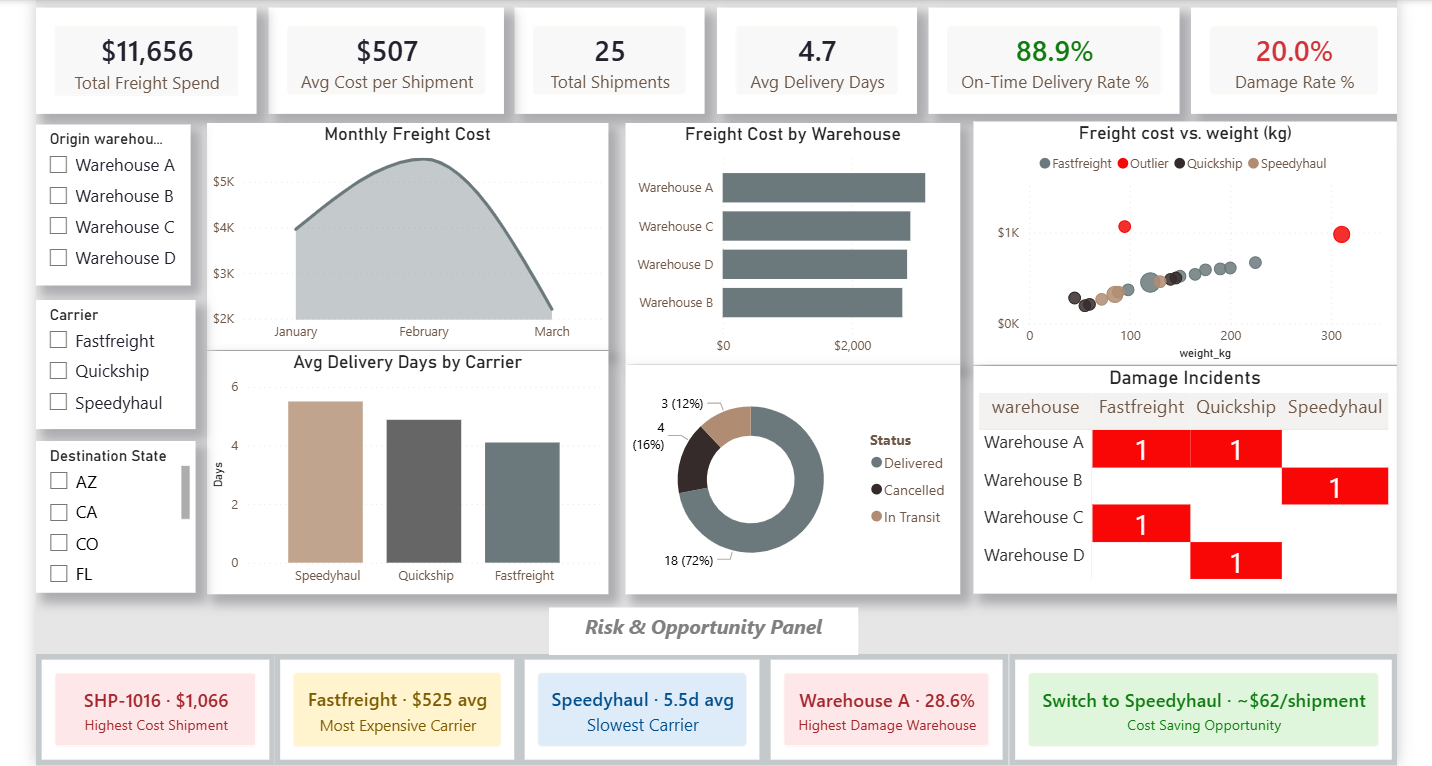

The dashboard page shown, as its layout file describes it:
{"tool":"powerbi","page":{"name":"Page 1","canvas":[1280,720],"ordinal":0},"visuals":[{"type":"cardVisual","fields":{"Data":["Table1.Total Shipments"]},"box":[449.7,6.6,178.7,99.9],"z":0},{"type":"cardVisual","fields":{"Data":["Table1.Avg Cost per Shipment"]},"box":[218,6.6,221.1,99.9],"z":1000},{"type":"cardVisual","fields":{"Data":["Table1.Avg Delivery Days"]},"box":[640.5,6.6,187.8,99.9],"z":2000},{"type":"cardVisual","fields":{"Data":["Table1.On-Time Delivery Rate %"]},"box":[838.8,6.6,236.2,99.9],"z":3000},{"type":"cardVisual","fields":{"Data":["Table1.Damage Rate %"]},"box":[1085.7,6.6,193.8,99.9],"z":4000},{"type":"cardVisual","fields":{"Data":["Table1.Total Freight Spend"]},"box":[0,7,207.3,100.1],"z":5000},{"type":"areaChart","title":"Monthly Freight Cost","fields":{"Category":["Table1.ship_date.Variation.Date Hierarchy.Month"],"Y":["Table1.Monthly Freight Cost"]},"box":[161.3,115.8,377,213.5],"z":6000},{"type":"clusteredBarChart","title":"Freight Cost by Warehouse ","fields":{"Y":["Table1.Freight Cost by Warehouse"],"Category":["Table1.origin_warehouse"]},"box":[553.7,115.1,314.7,226.9],"z":7000},{"type":"clusteredColumnChart","title":"Avg Delivery Days by Carrier","fields":{"Y":["Table1.Avg Delivery Days by Carrier"],"Category":["Table1.carrier"]},"box":[161.3,329.3,377,228.6],"z":8000},{"type":"scatterChart","title":"Freight cost vs. weight (kg)","fields":{"X":["Table1.weight_kg"],"Y":["Table1.Avg Cost per Shipment"],"Size":["CountNonNull(Table1.shipment_id)"],"Series":["Table1.Outlier Label"]},"box":[881.2,113.5,397.8,228.5],"z":9000},{"type":"donutChart","fields":{"Category":["Table1.shipment_status"],"Y":["Count(Table1.shipment_id)"]},"box":[553.7,342,314.7,215.7],"z":10000},{"type":"pivotTable","title":"Damage Incidents","fields":{"Rows":["Table1.origin_warehouse"],"Columns":["Table1.carrier"],"Values":["Table1.Damage Count"]},"box":[881.2,343.6,397.8,214.1],"z":11000},{"type":"cardVisual","fields":{"Data":["Table1.Risk - Highest Cost Shipment"]},"box":[0,614.8,224.1,104.5],"z":12000},{"type":"cardVisual","fields":{"Data":["Table1.Risk - Most Expensive Carrier"]},"box":[224.1,614.8,230.2,104.5],"z":13000},{"type":"cardVisual","fields":{"Data":["Table1.Risk - Slowest Carrier"]},"box":[454.3,614.8,231.7,104.5],"z":14000},{"type":"cardVisual","fields":{"Data":["Table1.Risk - Highest Damage Warehouse"]},"box":[685.9,614.8,228.6,104.5],"z":15000},{"type":"cardVisual","fields":{"Data":["Table1.Risk - Cost Saving Opportunity"]},"box":[914.6,614.8,364.9,104.5],"z":16000},{"type":"slicer","fields":{"Values":["Table1.origin_warehouse"]},"box":[0,116.6,145.4,151.4],"z":17000},{"type":"slicer","fields":{"Values":["Table1.carrier"]},"box":[0,281.6,149.9,121.1],"z":18000},{"type":"slicer","fields":{"Values":["Table1.destination_state"]},"box":[0,414.9,149.9,142.3],"z":19000},{"type":"textbox","box":[482.5,570.4,290.8,44.7],"z":20000}]}

Visuals, with their boxes on the page's 1280x720 design canvas (x1, y1, x2, y2). These are canvas units, not pixel positions in the 1432x766 screenshot, which may show the page scaled, cropped or inside an application window:
cardVisual - Table1.Total Shipments: crop(450, 7, 628, 106)
cardVisual - Table1.Avg Cost per Shipment: crop(218, 7, 439, 106)
cardVisual - Table1.Avg Delivery Days: crop(640, 7, 828, 106)
cardVisual - Table1.On-Time Delivery Rate %: crop(839, 7, 1075, 106)
cardVisual - Table1.Damage Rate %: crop(1086, 7, 1280, 106)
cardVisual - Table1.Total Freight Spend: crop(0, 7, 207, 107)
"Monthly Freight Cost" areaChart: crop(161, 116, 538, 329)
"Freight Cost by Warehouse " clusteredBarChart: crop(554, 115, 868, 342)
"Avg Delivery Days by Carrier" clusteredColumnChart: crop(161, 329, 538, 558)
"Freight cost vs. weight (kg)" scatterChart: crop(881, 114, 1279, 342)
donutChart - Table1.shipment_status x Count(Table1.shipment_id): crop(554, 342, 868, 558)
"Damage Incidents" pivotTable: crop(881, 344, 1279, 558)
cardVisual - Table1.Risk - Highest Cost Shipment: crop(0, 615, 224, 719)
cardVisual - Table1.Risk - Most Expensive Carrier: crop(224, 615, 454, 719)
cardVisual - Table1.Risk - Slowest Carrier: crop(454, 615, 686, 719)
cardVisual - Table1.Risk - Highest Damage Warehouse: crop(686, 615, 914, 719)
cardVisual - Table1.Risk - Cost Saving Opportunity: crop(915, 615, 1280, 719)
slicer - Table1.origin_warehouse: crop(0, 117, 145, 268)
slicer - Table1.carrier: crop(0, 282, 150, 403)
slicer - Table1.destination_state: crop(0, 415, 150, 557)
textbox: crop(482, 570, 773, 615)
